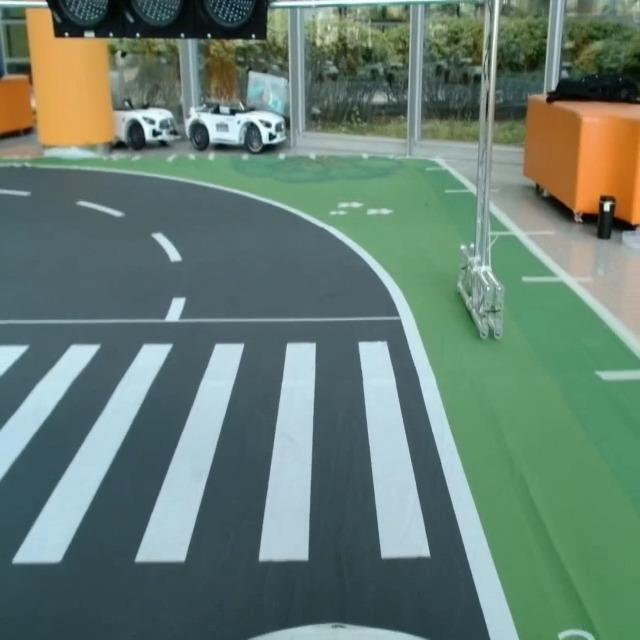traffic-light: (43, 0, 273, 46)
